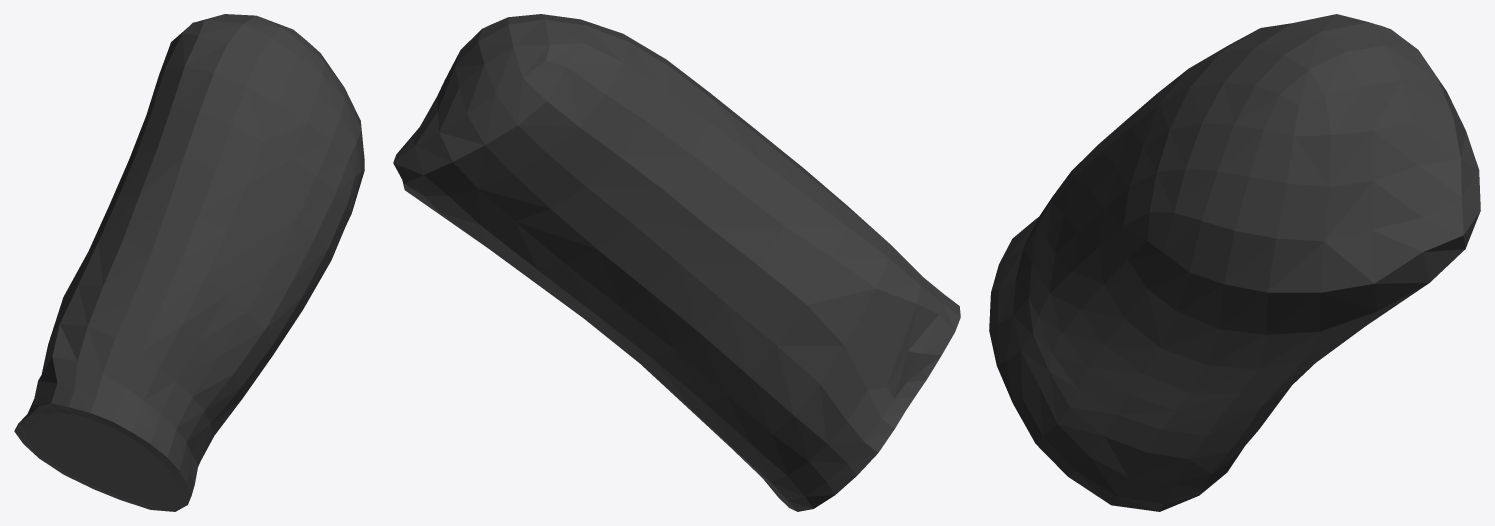
Rendered from L_sided_BRACHICEPHALIC_TRUNK.glb.
3 views of the same model, side by side, from view 1: azimuth 30°, elevation 25°; view 2: azimuth 150°, elevation 25°; view 3: azimuth 270°, elevation 25° (orthographic). The views are drawn at different scales.
Parts seen in each view (by area): view 1: L_sided_BRACHICEPHALIC_TRUNK; view 2: L_sided_BRACHICEPHALIC_TRUNK; view 3: L_sided_BRACHICEPHALIC_TRUNK.
Part boxes in pixels (box(x1,y1,x2,y2)): L_sided_BRACHICEPHALIC_TRUNK: box(14, 14, 364, 511); L_sided_BRACHICEPHALIC_TRUNK: box(393, 14, 960, 511); L_sided_BRACHICEPHALIC_TRUNK: box(989, 14, 1480, 511).
Bounding box in the file's own units: 1.93 × 2.03 × 1.55.
1 material, 1 textured.
